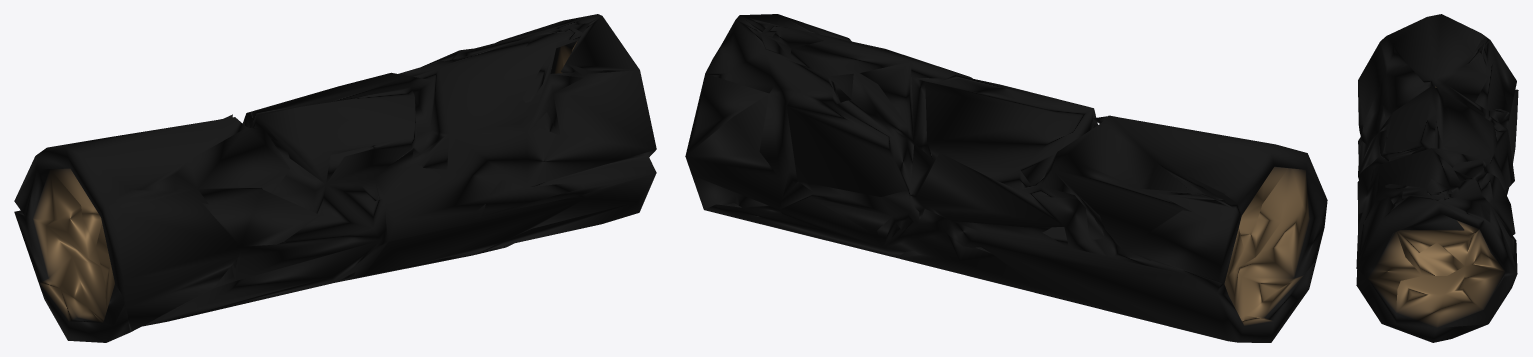
Rendered from gen3d-charred-log-lod1.glb.
3 views of the same model, side by side, from view 1: azimuth 30°, elevation 25°; view 2: azimuth 150°, elevation 25°; view 3: azimuth 270°, elevation 25° (orthographic). The views are drawn at different scales.
Visible parts, largest first — view 1: part_0; view 2: part_0; view 3: part_0.
Boxes of the visible parts, x1,y1,x2,y2 form: part_0: [14, 14, 656, 342]; part_0: [685, 14, 1327, 342]; part_0: [1356, 14, 1518, 342].
Bounding box in the file's own units: 2.83 × 0.9921 × 1.02.
